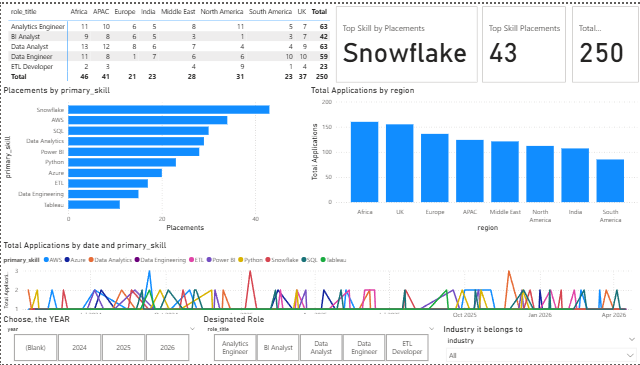

Layout of this report page (visuals, bound fields, positions):
{"tool":"powerbi","page":{"name":"Skill & Region Insight","canvas":[1280,720],"ordinal":2},"visuals":[{"type":"pivotTable","fields":{"Rows":["roles.role_title"],"Columns":["candidates.region"],"Values":["KPI_Measures.Placements"]},"box":[9.5,0,814.9,162.6],"z":0},{"type":"cardVisual","fields":{"Data":["KPI_Measures.Top Skill by Placements"]},"box":[665.5,0,293.1,162.6],"z":1000},{"type":"cardVisual","fields":{"Data":["KPI_Measures.Top Skill Placements"]},"box":[958.6,0,177.7,162.6],"z":2000},{"type":"cardVisual","fields":{"Data":["KPI_Measures.Total Placements"]},"box":[1136.3,0,143.7,162.6],"z":3000},{"type":"barChart","fields":{"Category":["roles.primary_skill"],"Y":["KPI_Measures.Placements"]},"box":[0,162.6,614.5,298.7],"z":3001},{"type":"clusteredColumnChart","fields":{"Category":["candidates.region"],"Y":["KPI_Measures.Total Applications"]},"box":[614.5,162.6,665.5,298.7],"z":3002},{"type":"lineChart","fields":{"Category":["dates.date"],"Y":["KPI_Measures.Total Applications"],"Series":["roles.primary_skill"]},"box":[0,472.7,1280,168.3],"z":3003},{"type":"slicer","title":"Choose, the YEAR","fields":{"Values":["dates.year"]},"box":[0,620.1,400,100.2],"z":3004},{"type":"slicer","title":"Designated Role","fields":{"Values":["roles.role_title"]},"box":[400.8,620.1,478.3,100.2],"z":3005},{"type":"slicer","title":"Industry it belongs to","fields":{"Values":["clients.industry"]},"box":[879.2,640.9,400.8,79.4],"z":3006}]}

Visuals, with their boxes in screenshot pixels (x1, y1, x2, y2), scaled from the page's 1280x720 canvas onto the 640x365 screenshot:
pivotTable - roles.role_title x candidates.region: Rect(5, 0, 412, 82)
cardVisual - KPI_Measures.Top Skill by Placements: Rect(333, 0, 479, 82)
cardVisual - KPI_Measures.Top Skill Placements: Rect(479, 0, 568, 82)
cardVisual - KPI_Measures.Total Placements: Rect(568, 0, 639, 82)
barChart - roles.primary_skill x KPI_Measures.Placements: Rect(0, 82, 307, 234)
clusteredColumnChart - candidates.region x KPI_Measures.Total Applications: Rect(307, 82, 639, 234)
lineChart - dates.date x KPI_Measures.Total Applications: Rect(0, 240, 639, 325)
"Choose, the YEAR" slicer: Rect(0, 314, 200, 364)
"Designated Role" slicer: Rect(200, 314, 440, 364)
"Industry it belongs to" slicer: Rect(440, 325, 639, 364)
